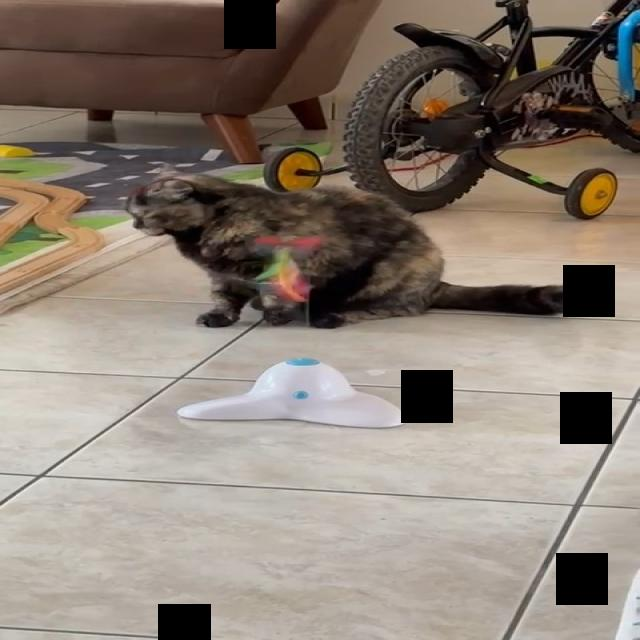authorized: (123, 162, 585, 329)
